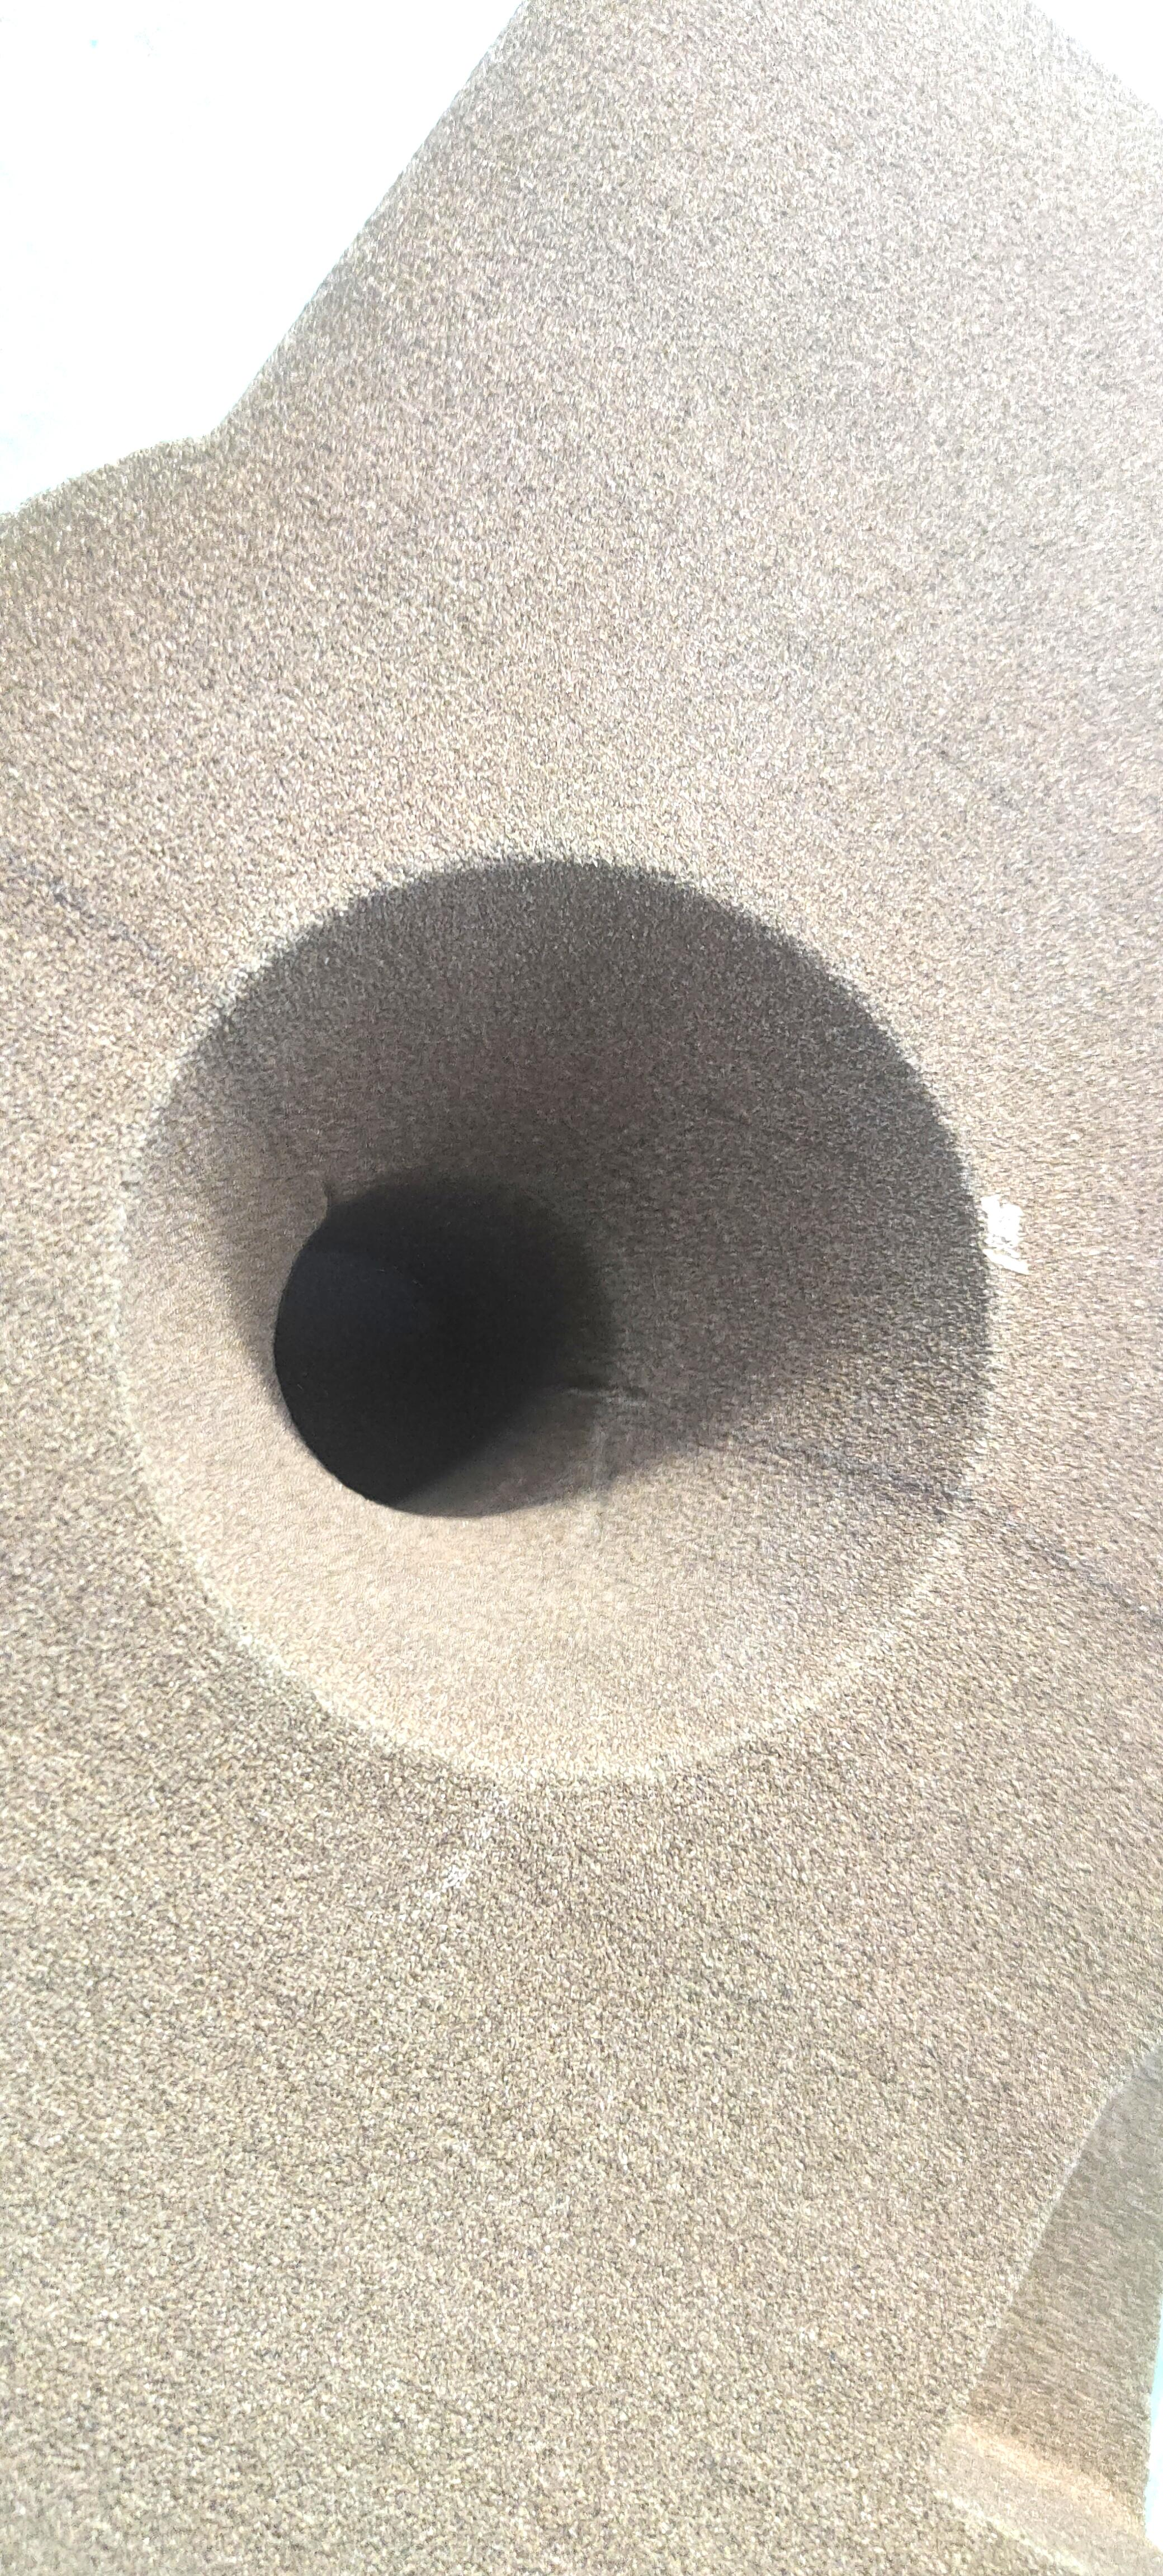pouring hole: (105, 853, 995, 1783)
